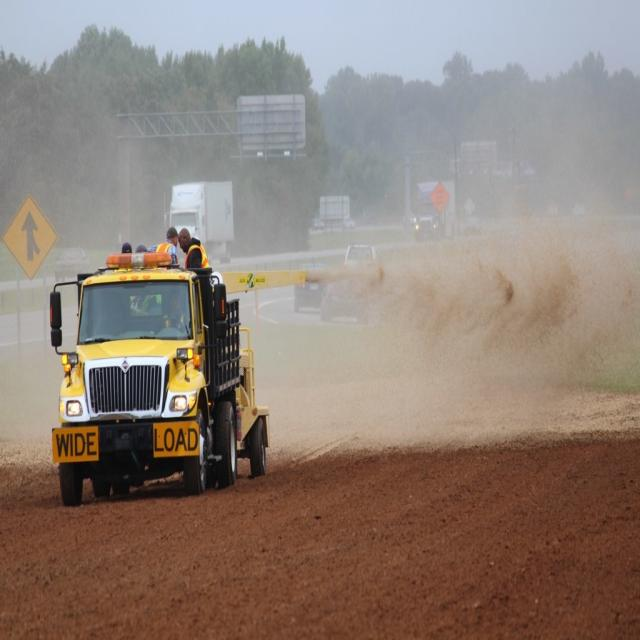car: (317, 279, 372, 328), (46, 242, 95, 279), (340, 238, 378, 273), (293, 267, 318, 319)
